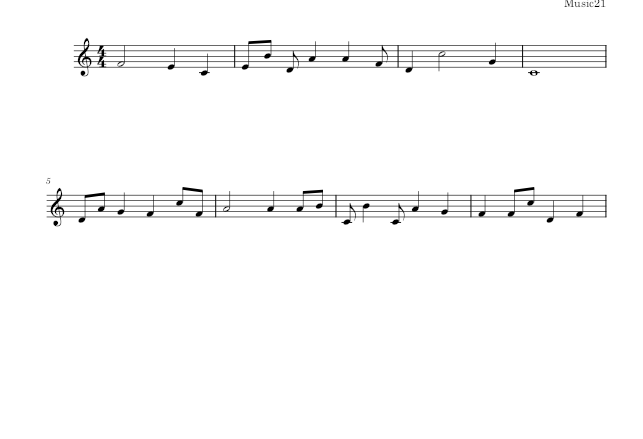Treble Clef: (74, 34, 94, 82), (46, 185, 67, 230)
